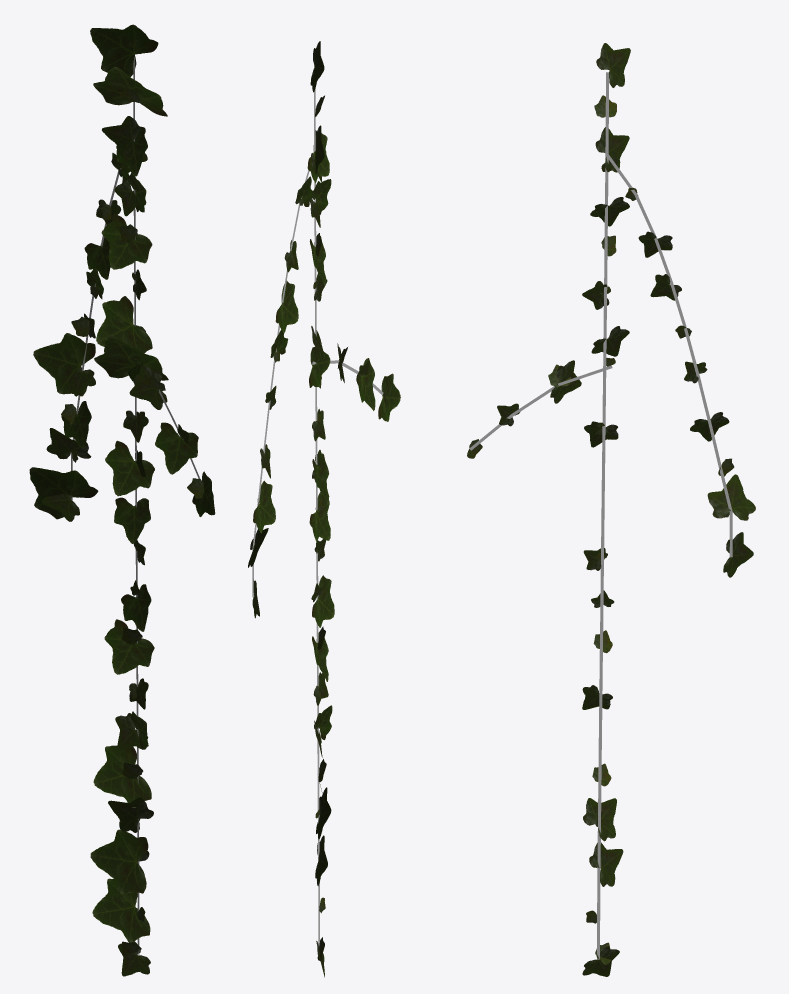
Rendered from SM_Ivy_BezierCurve_011.fbx.
3 views of the same model, side by side, from view 1: azimuth 30°, elevation 25°; view 2: azimuth 150°, elevation 25°; view 3: azimuth 270°, elevation 25° (orthographic).
Visible parts, largest first — view 1: SM_Ivy_BezierCurve_011_LOD0; view 2: SM_Ivy_BezierCurve_011_LOD0; view 3: SM_Ivy_BezierCurve_011_LOD0.
Part boxes in pixels (x1,y1,x2,y2): SM_Ivy_BezierCurve_011_LOD0: (29,24,215,976); SM_Ivy_BezierCurve_011_LOD0: (248,41,400,977); SM_Ivy_BezierCurve_011_LOD0: (467,43,755,976).
Bounding box in the file's own units: 9.79 × 43.49 × 135.
